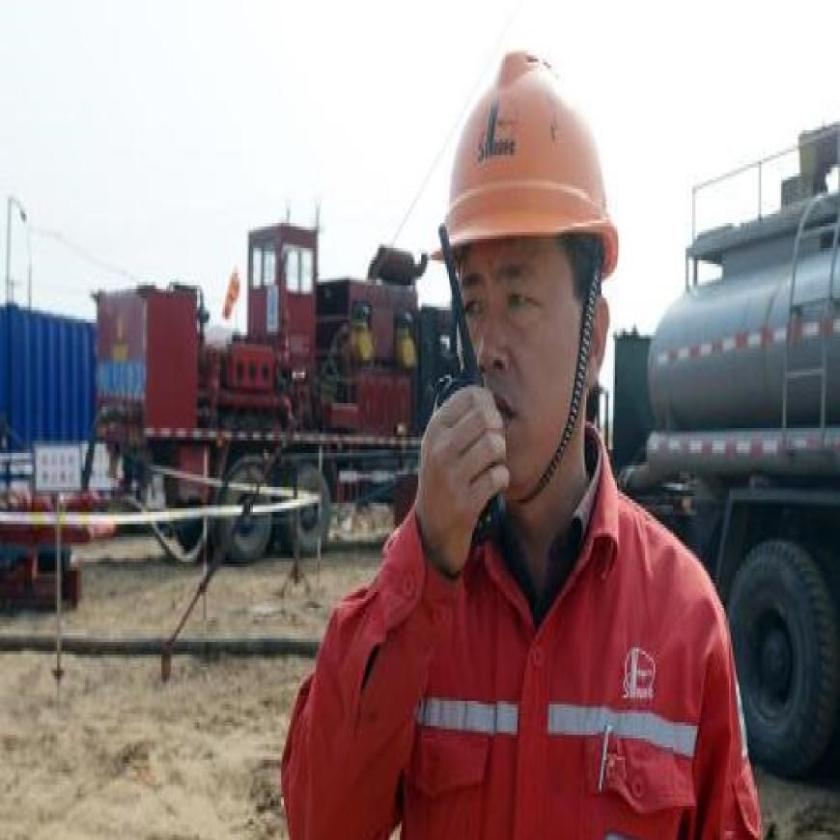Con_casco: (437, 50, 624, 525)
